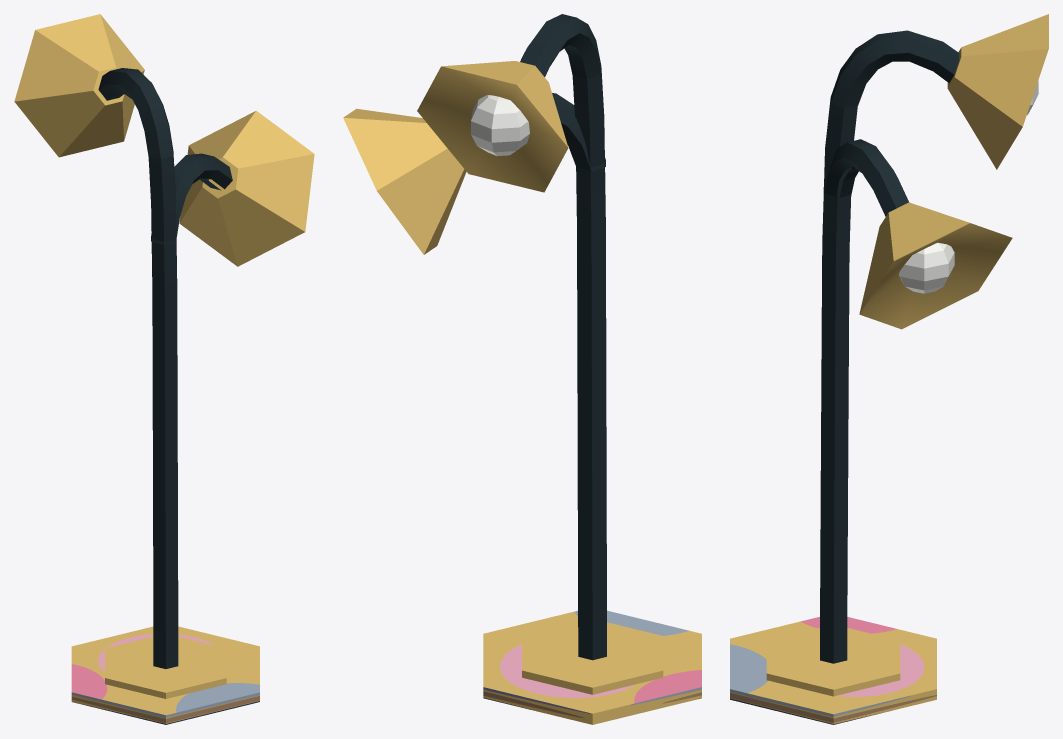
Rendered from Lamp_Mesh.fbx.
The picture shows the model from 3 angles, left to right: view 1: azimuth 30°, elevation 25°; view 2: azimuth 150°, elevation 25°; view 3: azimuth 270°, elevation 25°; orthographic projection. The views are drawn at different scales.
Visible parts, largest first — view 1: curve2; view 2: curve2; view 3: curve2.
Boxes of the visible parts, left/top/right/bottom form: curve2: left=14, top=14, right=314, bottom=724; curve2: left=343, top=14, right=701, bottom=724; curve2: left=730, top=14, right=1048, bottom=724.
Bounding box in the file's own units: 10.74 × 22.24 × 9.99.
